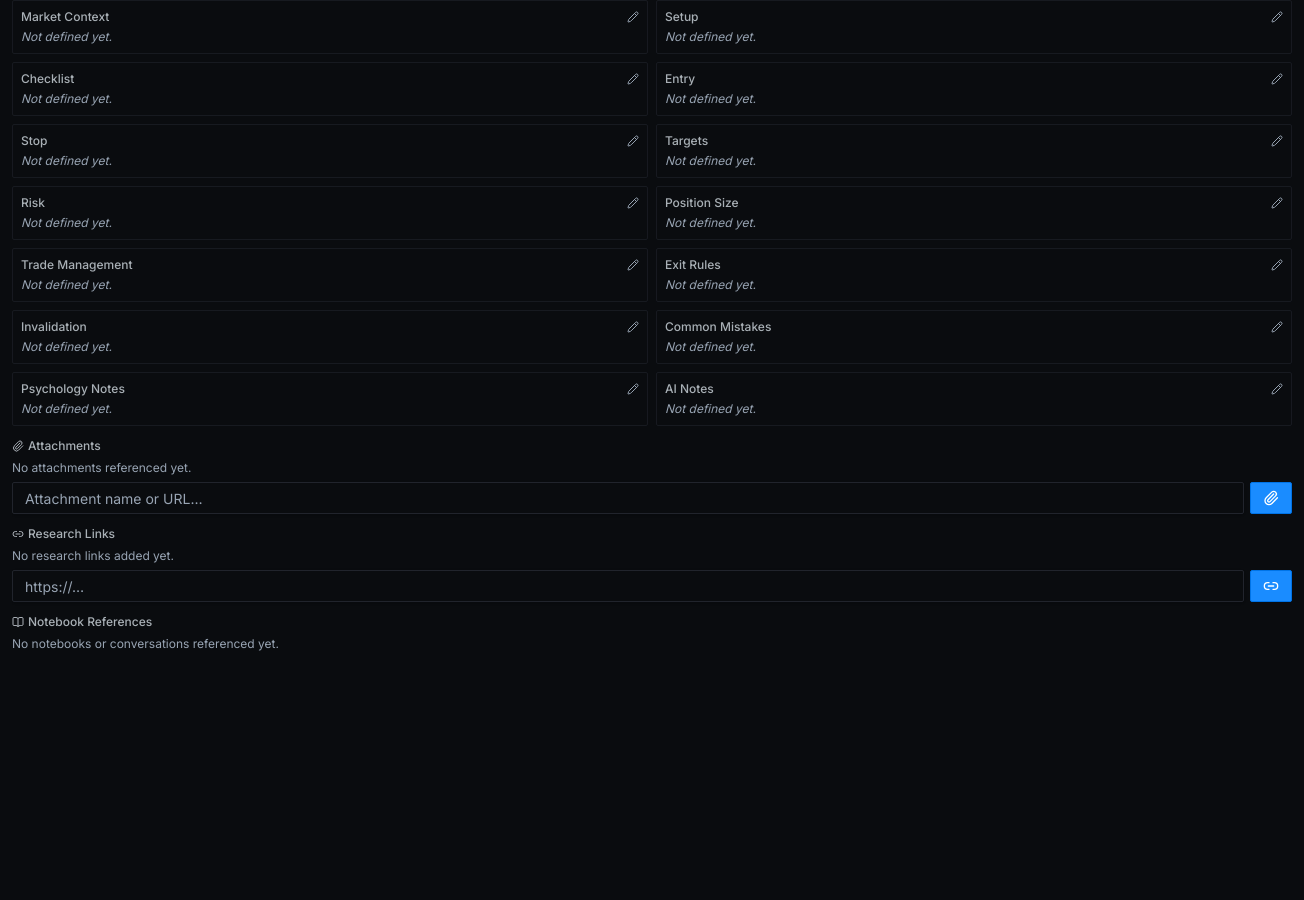
StrategyEditor — qualitative sections › cancel closes the edit form without saving
Click the button with test id "strategy-editor-section-risk-edit-toggle". click: (633, 203)
box: [627,197,639,209]
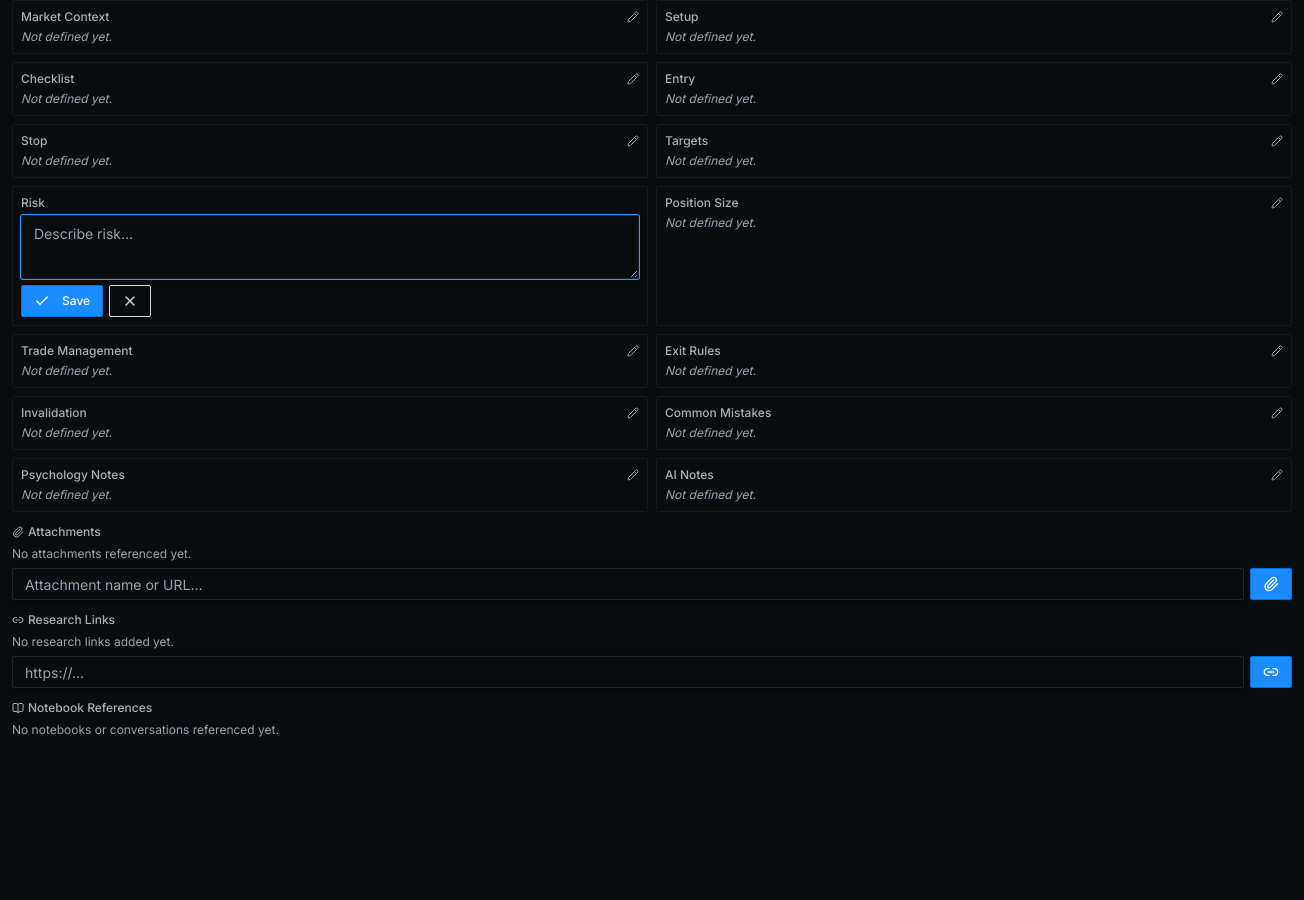
Type "Abandoned" into the text box with test id "strategy-editor-section-risk-input". click: (330, 247)
box: [21,215,639,279]
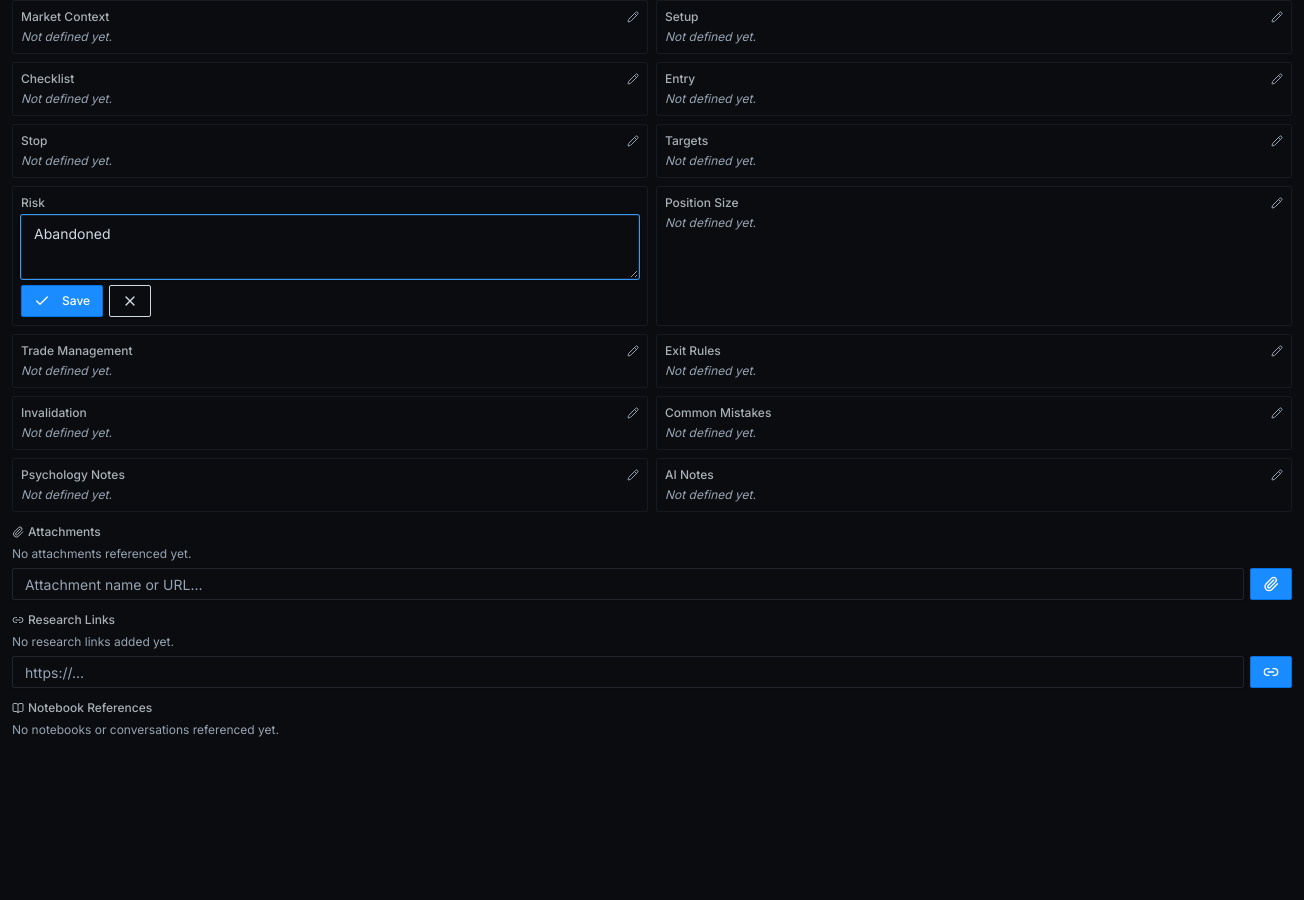
Click the button with test id "strategy-editor-section-risk-cancel". click: (130, 301)
box: [109,285,151,317]
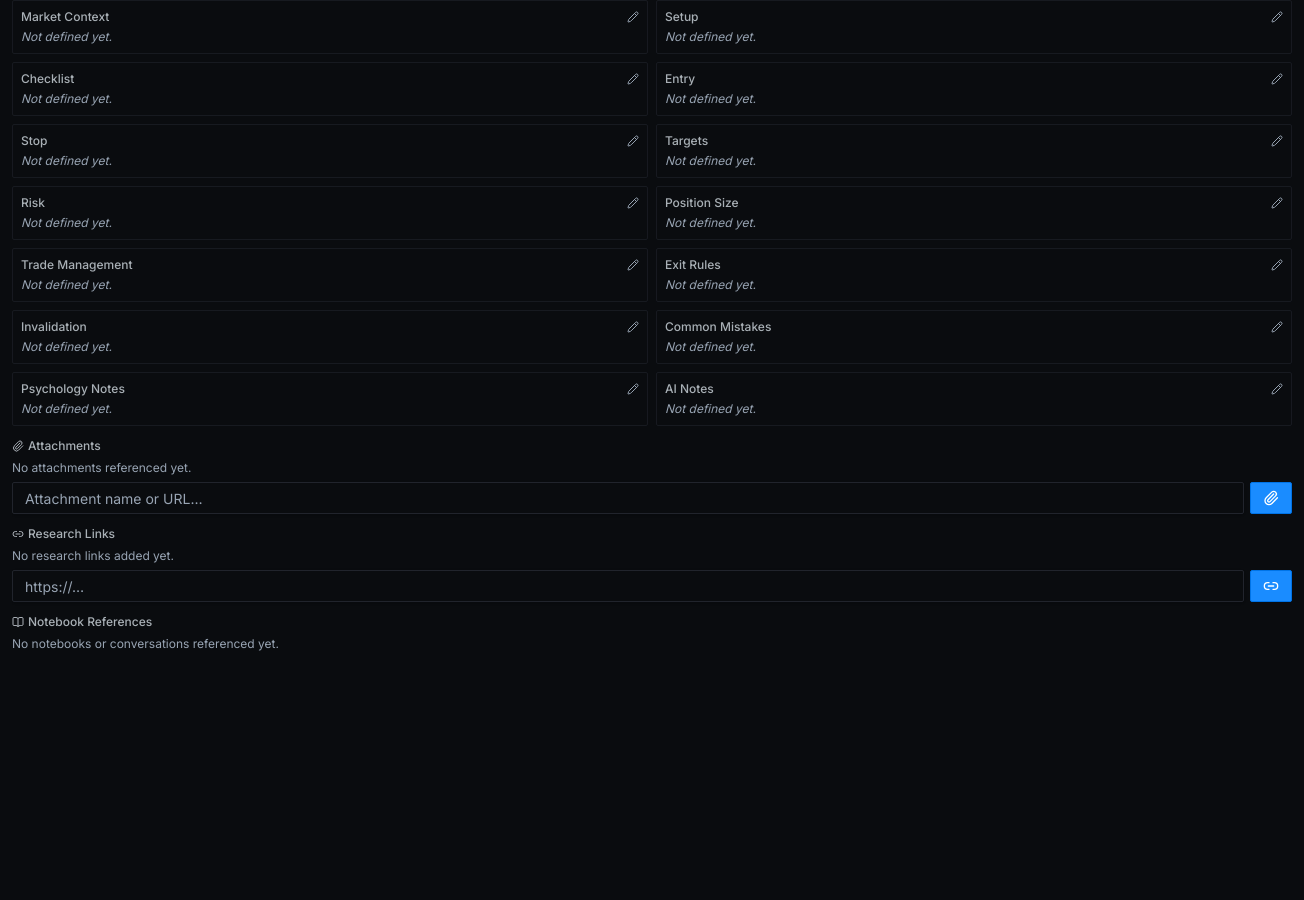
Result: the text box with test id "strategy-editor-section-risk-input" is gone
